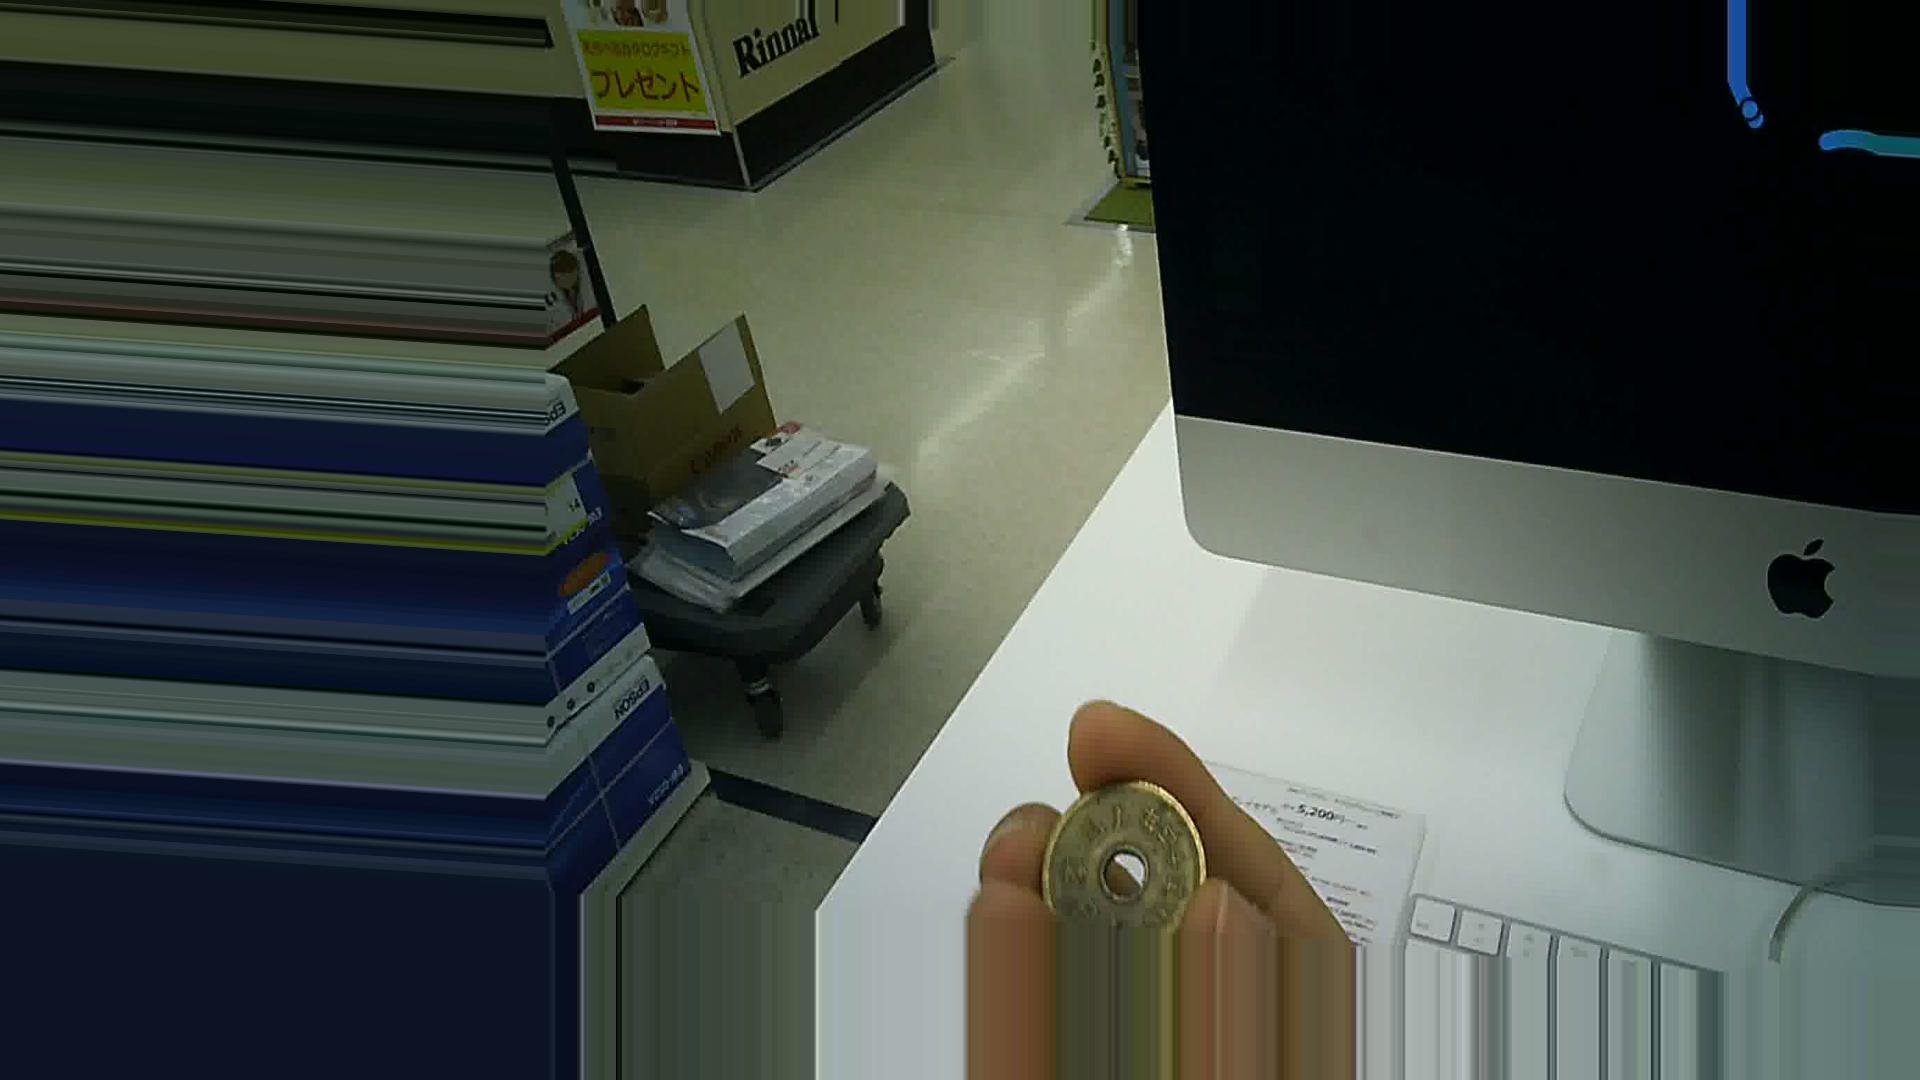5 Yen: (1030, 778, 1216, 936)
